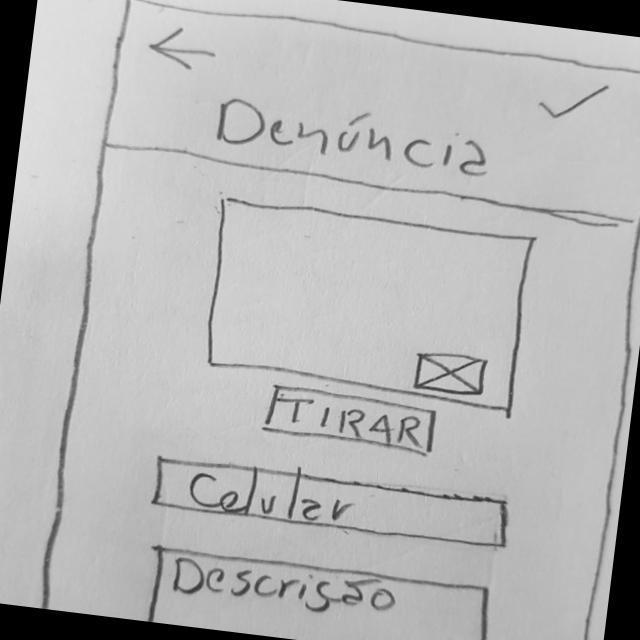button: (145, 450, 529, 559), (128, 541, 502, 640), (258, 379, 449, 461)
container: (26, 135, 640, 640), (100, 1, 640, 229), (196, 191, 548, 417)
icon-button: (520, 71, 629, 130), (139, 20, 230, 79)
image: (409, 346, 497, 403)
label: (208, 87, 505, 187)
